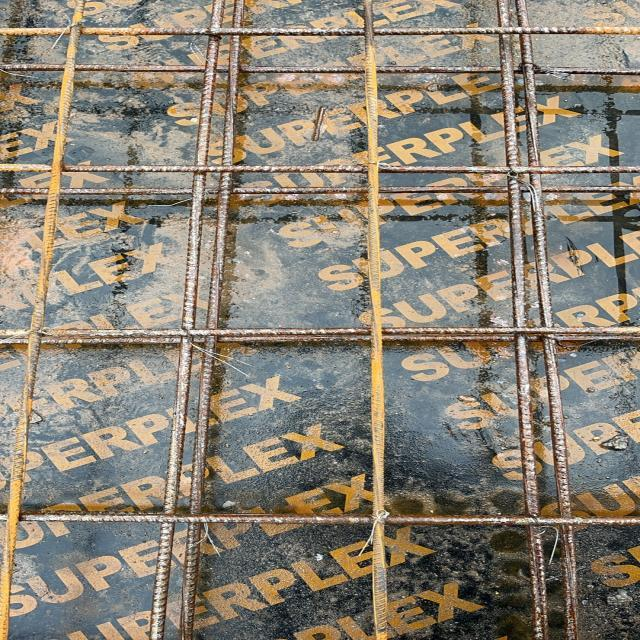ribbed bar: (0, 0, 88, 639), (147, 0, 223, 639), (180, 0, 246, 639), (516, 0, 580, 639), (496, 0, 546, 639), (361, 0, 388, 639), (0, 325, 639, 345), (0, 512, 639, 527), (0, 63, 639, 75), (0, 163, 639, 175), (0, 185, 639, 196), (0, 26, 639, 36)
